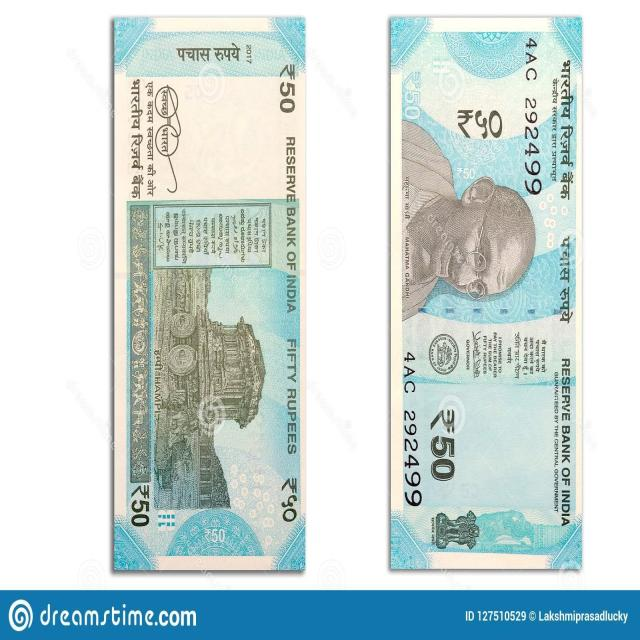50IndianRupees: (111, 22, 305, 578)
